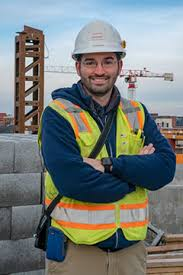hard hat: (71, 19, 127, 57)
high-vis: (38, 94, 150, 245)
